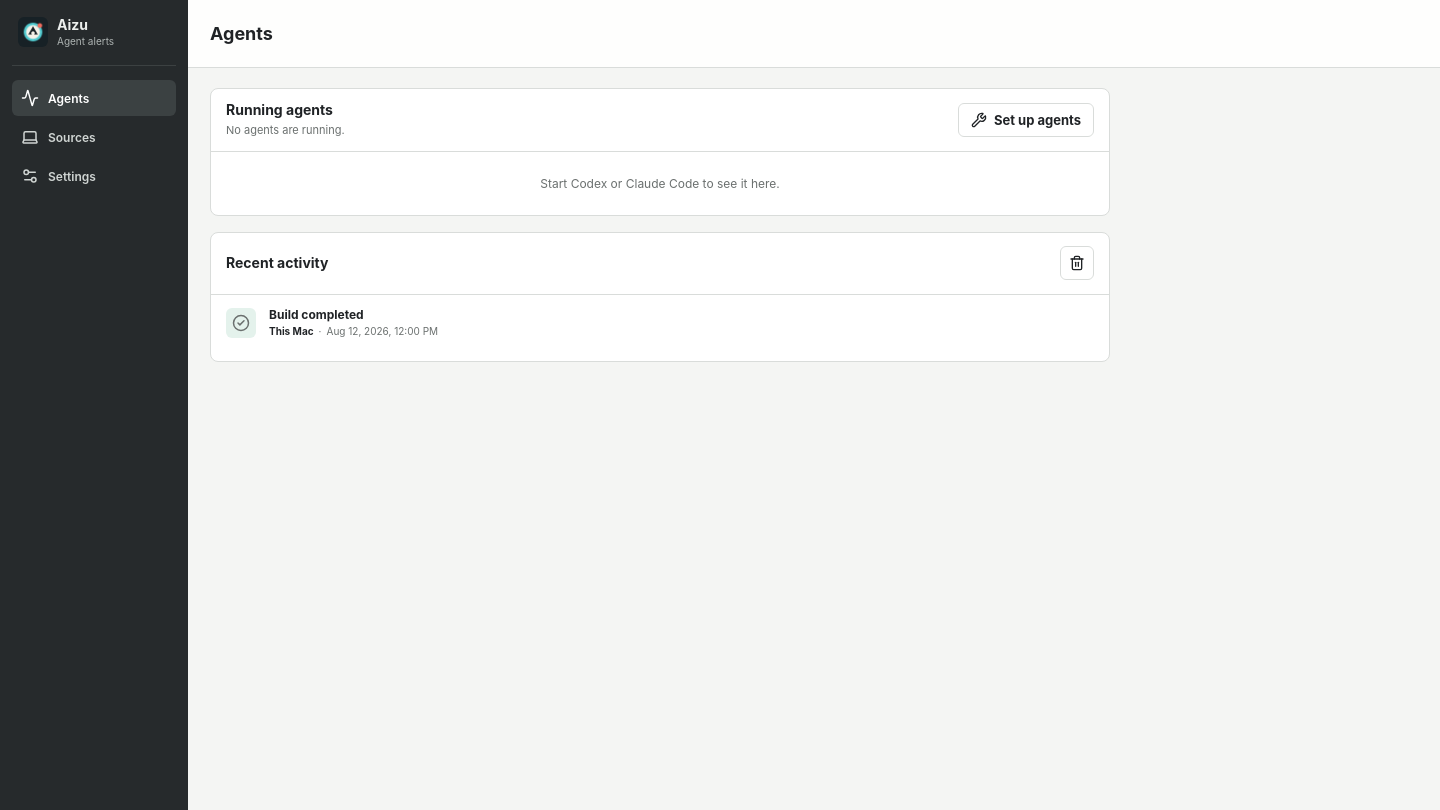
Scenario: Aizu desktop shell › clears terminal history after explicit confirmation
Expected: the text "Build completed" is shown, top-left (269, 307), bottom-right (364, 322)
Click the button named "Clear recent activity".
click(1077, 263)  # box top-left (1060, 246), bottom-right (1094, 280)
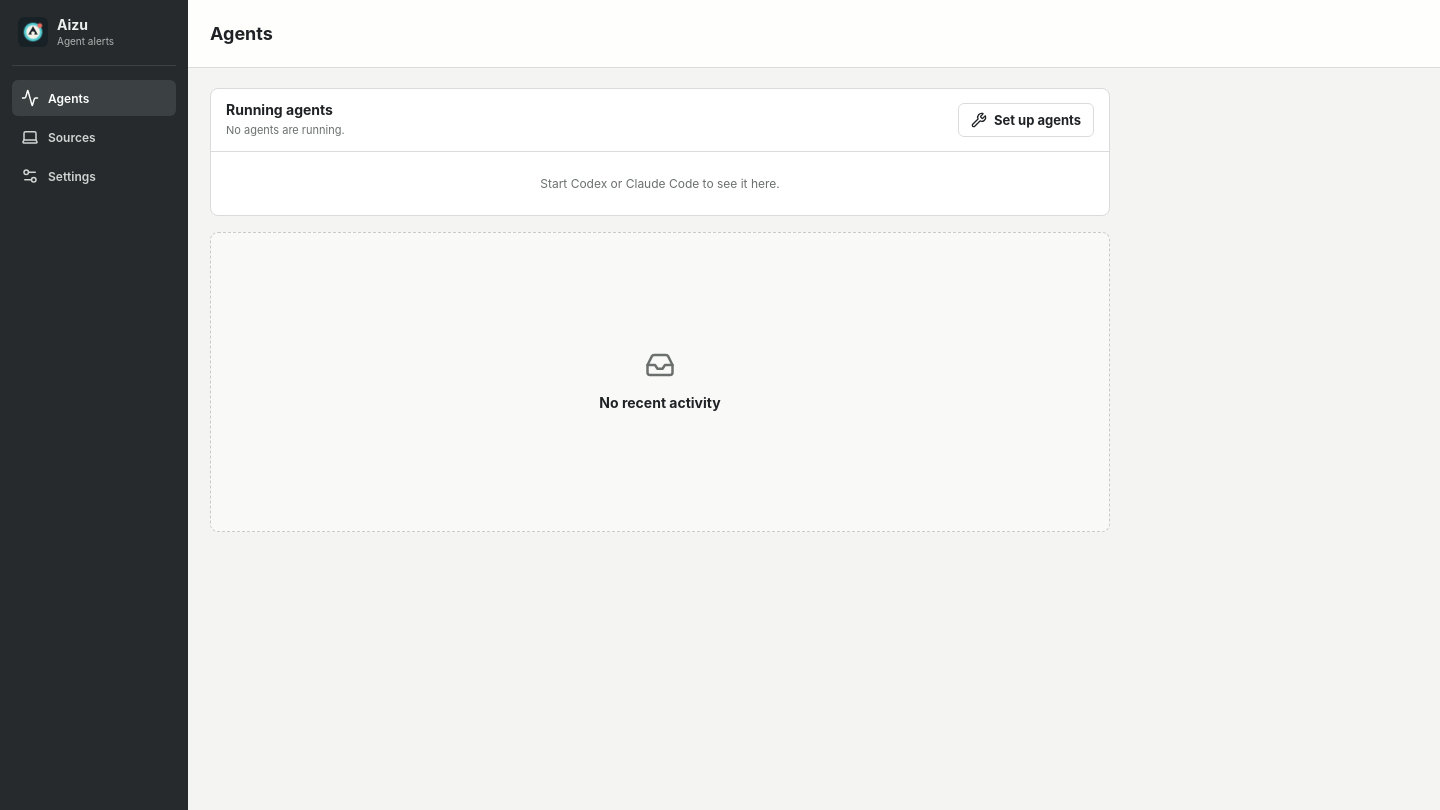
Result: the heading "No recent activity" is shown at top-left (599, 394), bottom-right (721, 413)
